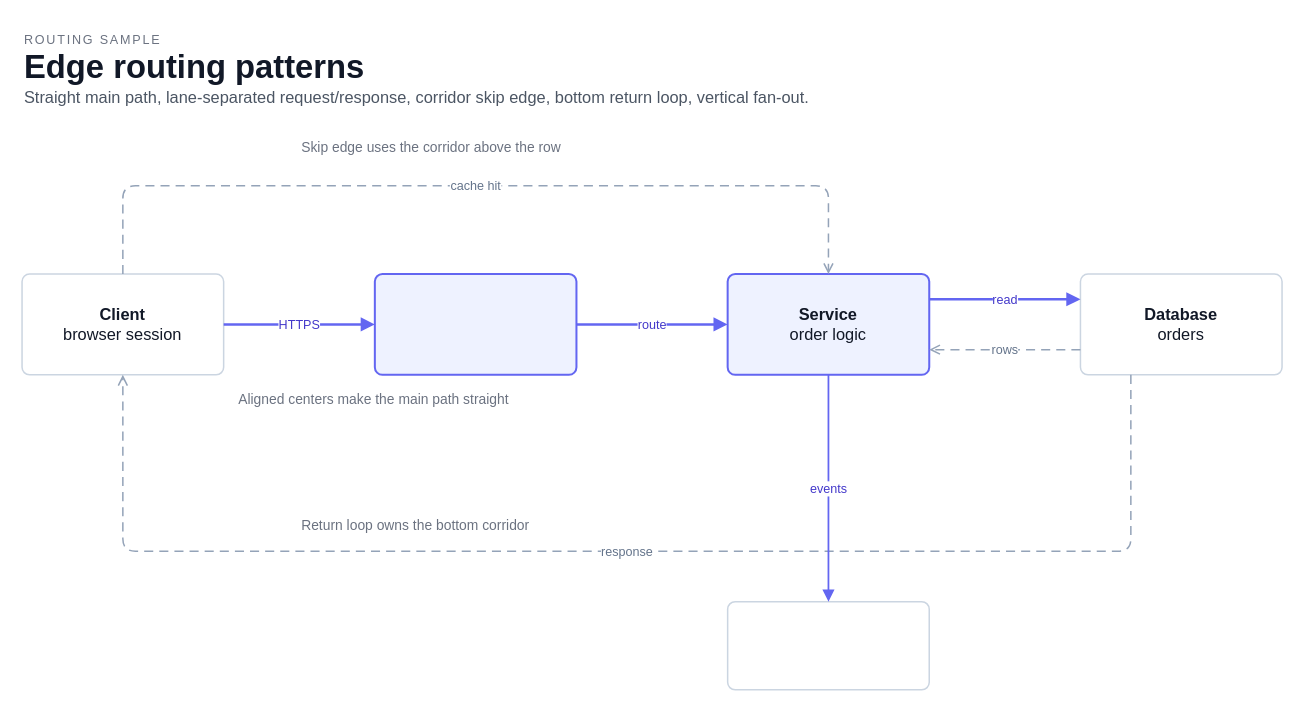
The diagram is 1305 pixels wide and 712 high, and some of its shapes have lost their labels. The centre of each missing label's shape, as x and y in pixels:
Gateway auth + rate limit: pixel 475 323
Queue async events: pixel 827 645
